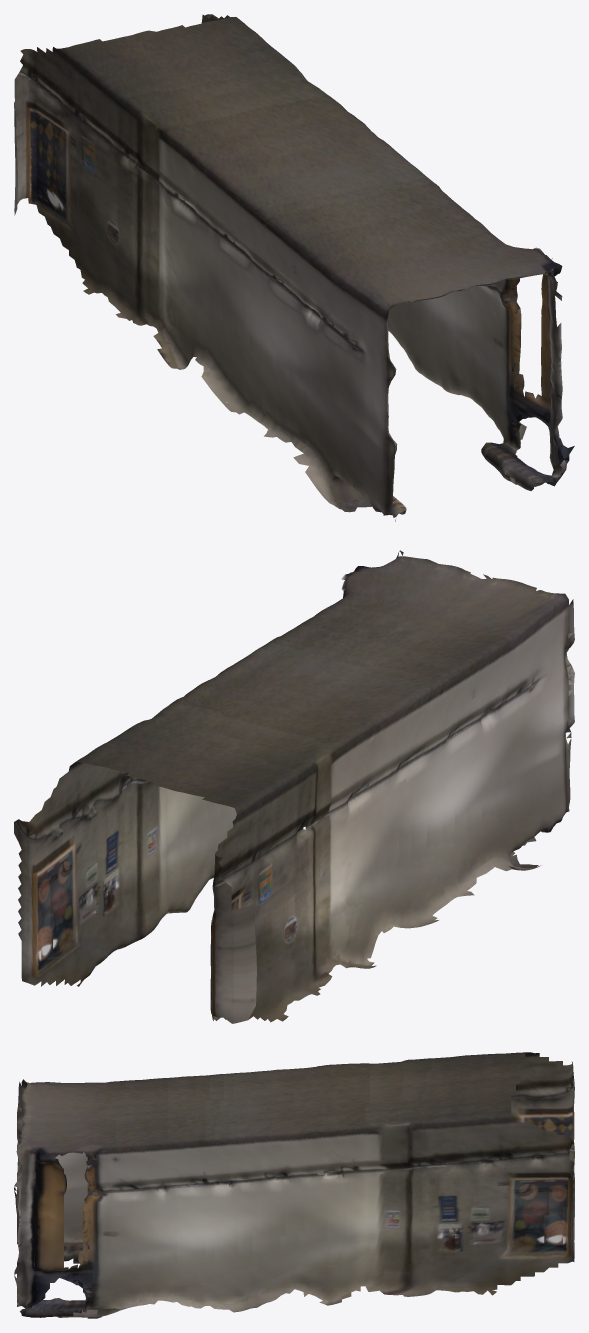
File: Ramp.obj
3 renders of one model, top to bottom at view 1: azimuth 30°, elevation 25°; view 2: azimuth 150°, elevation 25°; view 3: azimuth 270°, elevation 25°, orthographic. The views are drawn at different scales.
Size of the model in its own units: 3.46 by 3.72 by 9.13.
1 material, 1 textured.
